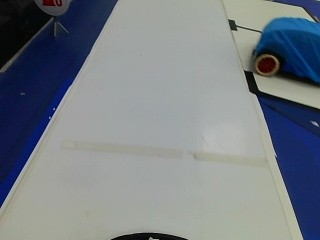car: (249, 13, 318, 81)
